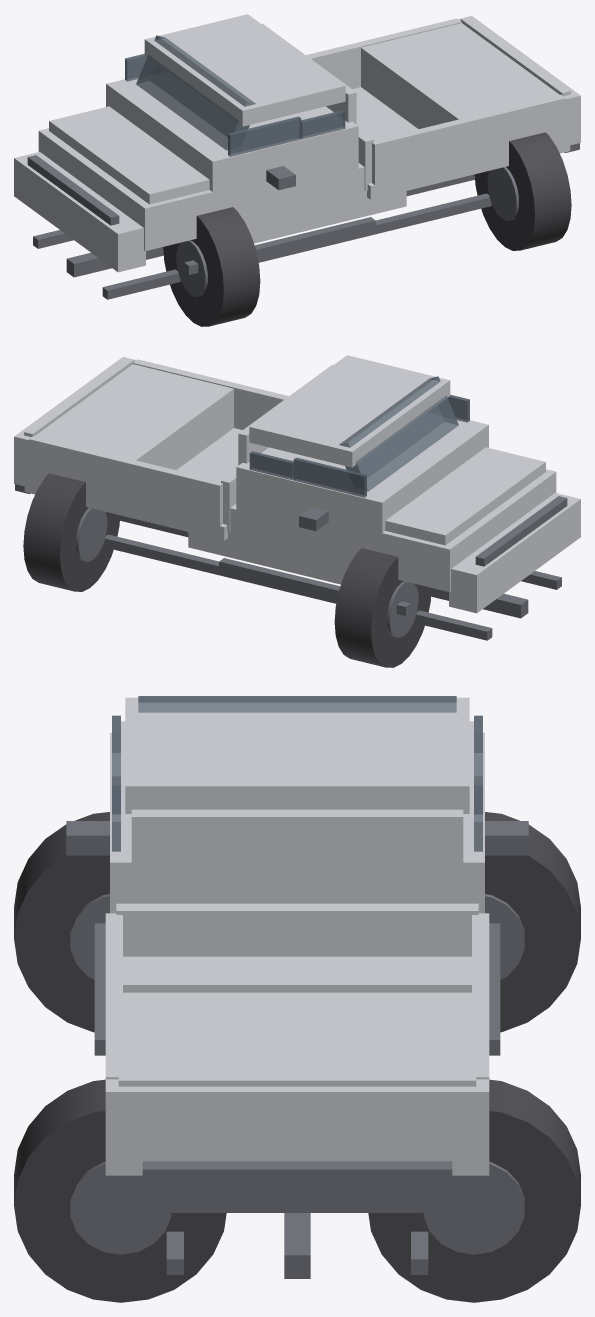
The model's file is toyota-hilux.glb.
The picture shows the model from 3 angles, top to bottom: view 1: azimuth 30°, elevation 25°; view 2: azimuth 150°, elevation 25°; view 3: azimuth 270°, elevation 25°; orthographic projection. The views are drawn at different scales.
Parts seen in each view (by area): view 1: Vehicle; view 2: Vehicle; view 3: Vehicle.
Boxes of the visible parts, x1=… form: Vehicle: x1=14, y1=14, x2=580, y2=326; Vehicle: x1=14, y1=355, x2=580, y2=667; Vehicle: x1=14, y1=696, x2=580, y2=1302.
Bounding box in the file's own units: 4.38 × 1.81 × 2.6.
